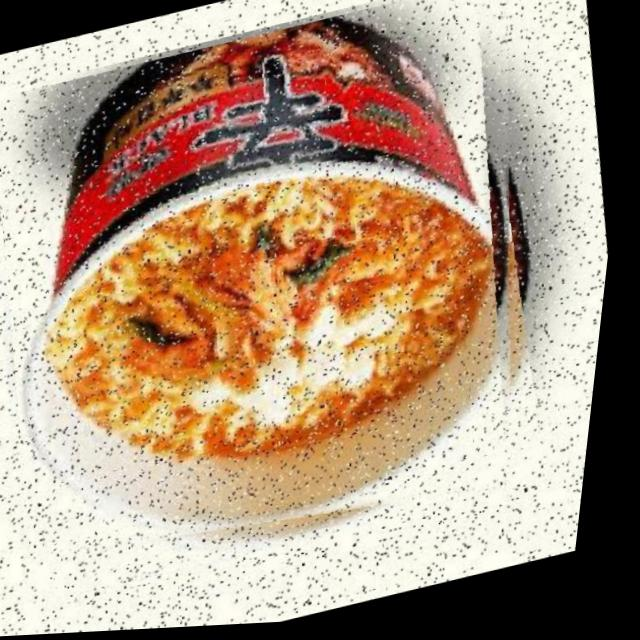Miscellaneous: (0, 0, 605, 605)
